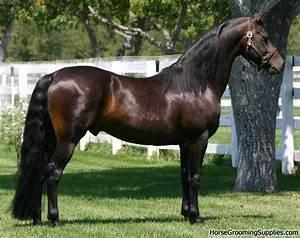horse: (5, 8, 284, 227)
